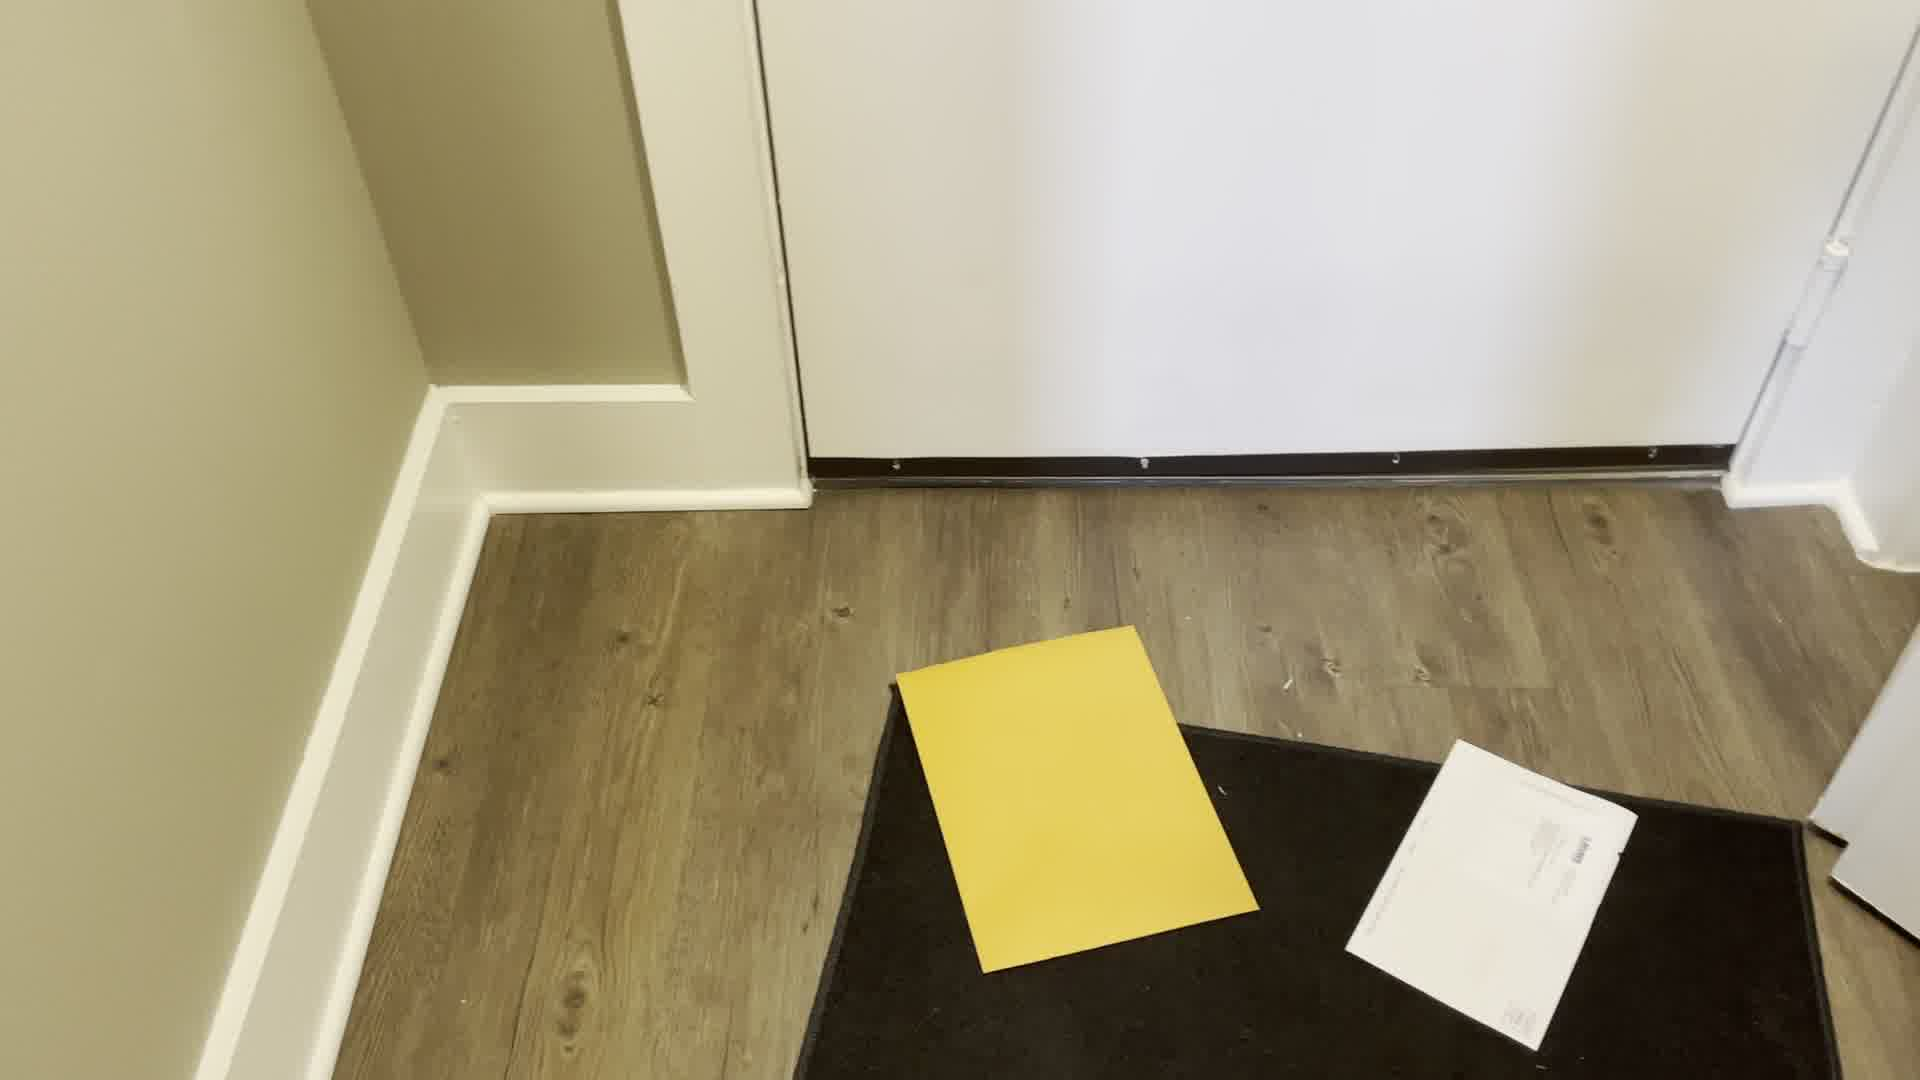envelope: (878, 618, 1273, 985), (1338, 731, 1643, 1052)
